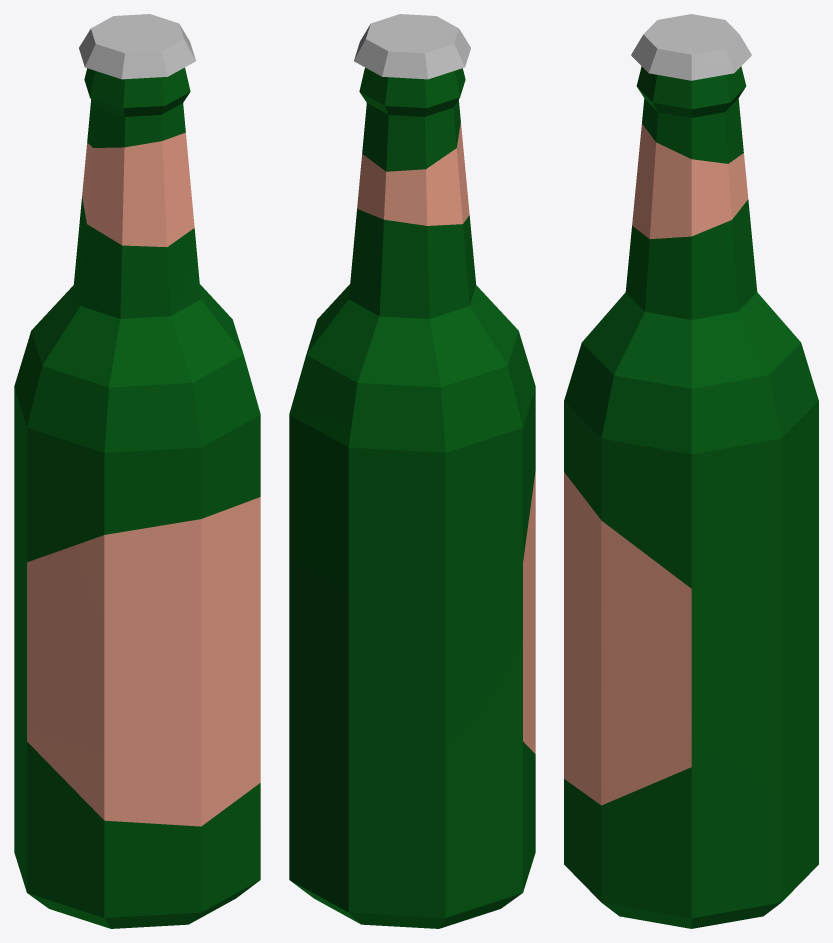
Rendered from drink_003.obj.
3 renders of one model, left to right at view 1: azimuth 30°, elevation 25°; view 2: azimuth 150°, elevation 25°; view 3: azimuth 270°, elevation 25°, orthographic.
Visible parts, largest first — view 1: drink_003; view 2: drink_003; view 3: drink_003.
Part boxes in pixels (x1=…): drink_003: x1=14, y1=14, x2=260, y2=928; drink_003: x1=289, y1=14, x2=535, y2=928; drink_003: x1=564, y1=14, x2=818, y2=928.
Bounding box in the file's own units: 0.0613 × 0.226 × 0.0613.
